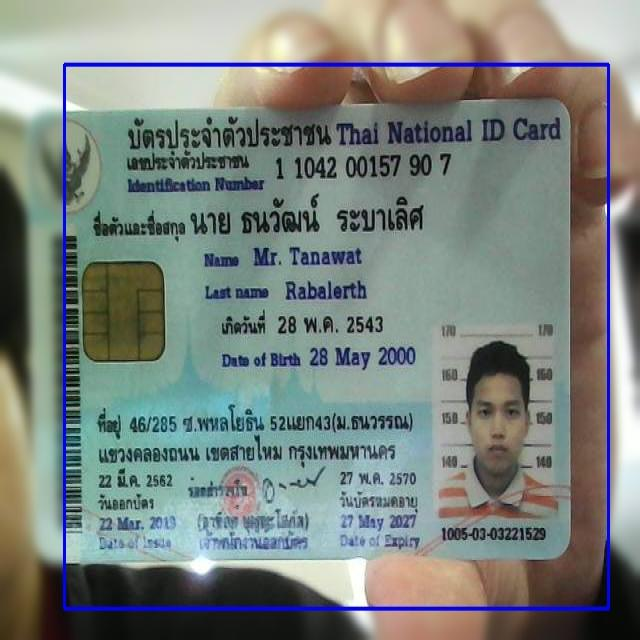Address_th: (90, 401, 419, 472)
Date_of_Birth: (306, 339, 419, 374)
Date_of_Expiry: (336, 509, 422, 532)
Date_of_Issue: (96, 509, 182, 535)
First_Name: (250, 237, 366, 270)
ID_Number: (272, 148, 462, 184)
Image: (433, 328, 554, 519)
Last_Name: (276, 273, 372, 308)
Thai_Name: (190, 189, 430, 240)
